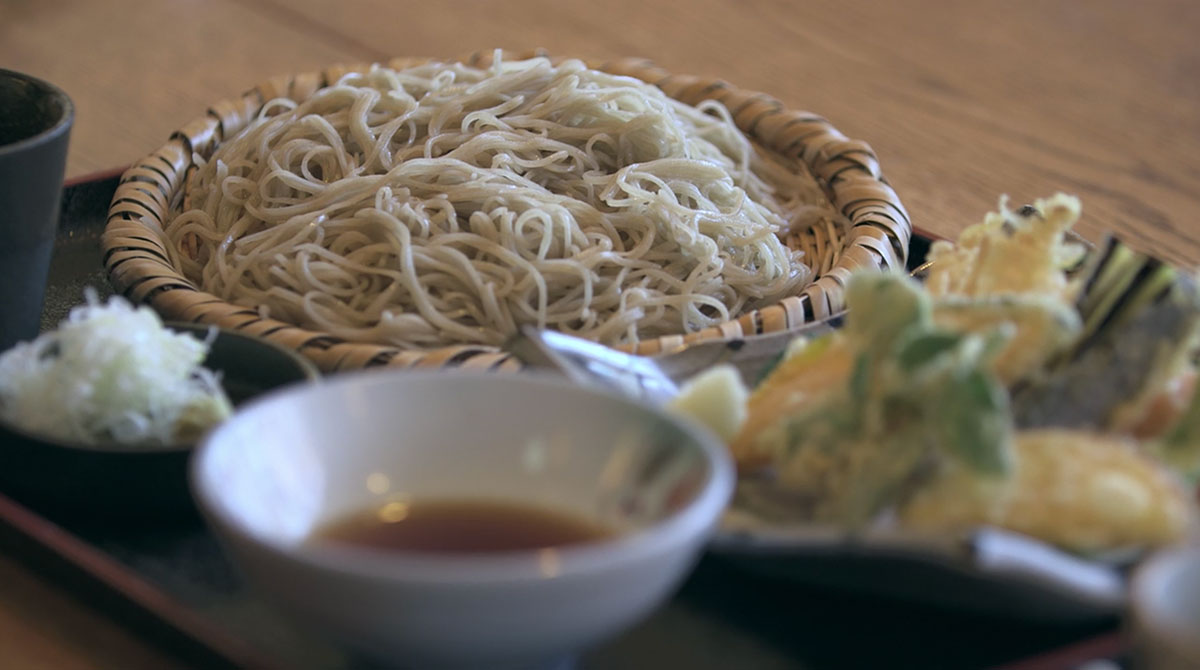Soba: (198, 67, 806, 350)
